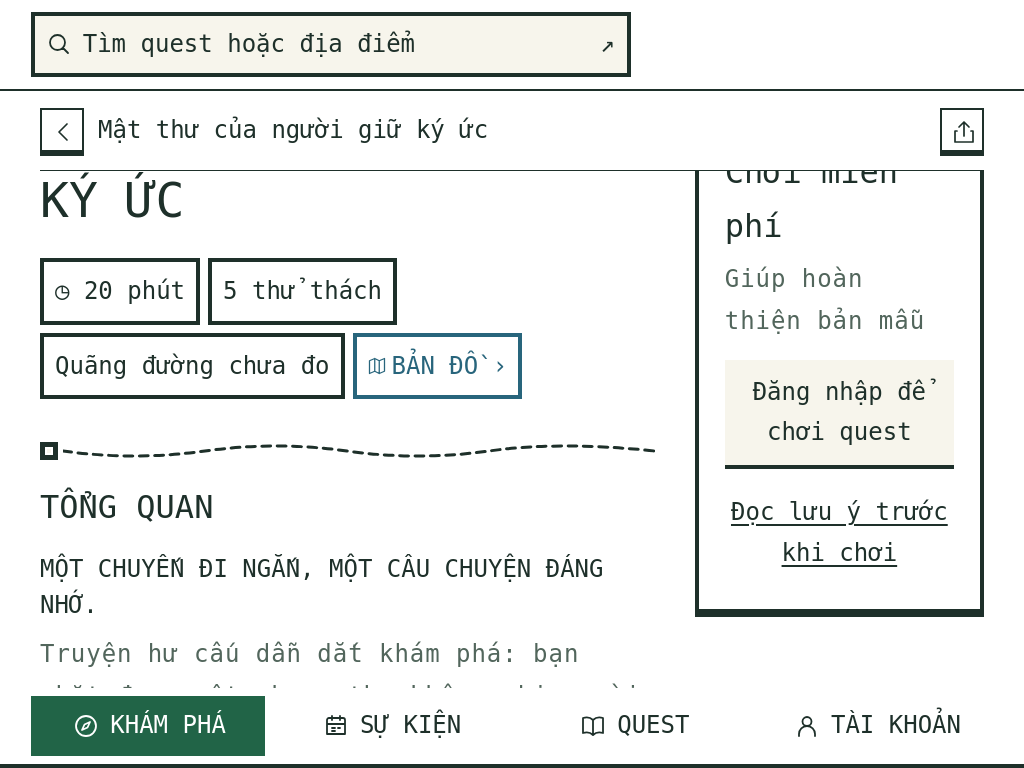
Test: keeps quest detail behind the login prompt when choosing to play
The image size is (1024, 768).
(page scrolled)
Step 1. Click the link "Đăng nhập để chơi quest" → [839, 412], box [725,360,954,465]
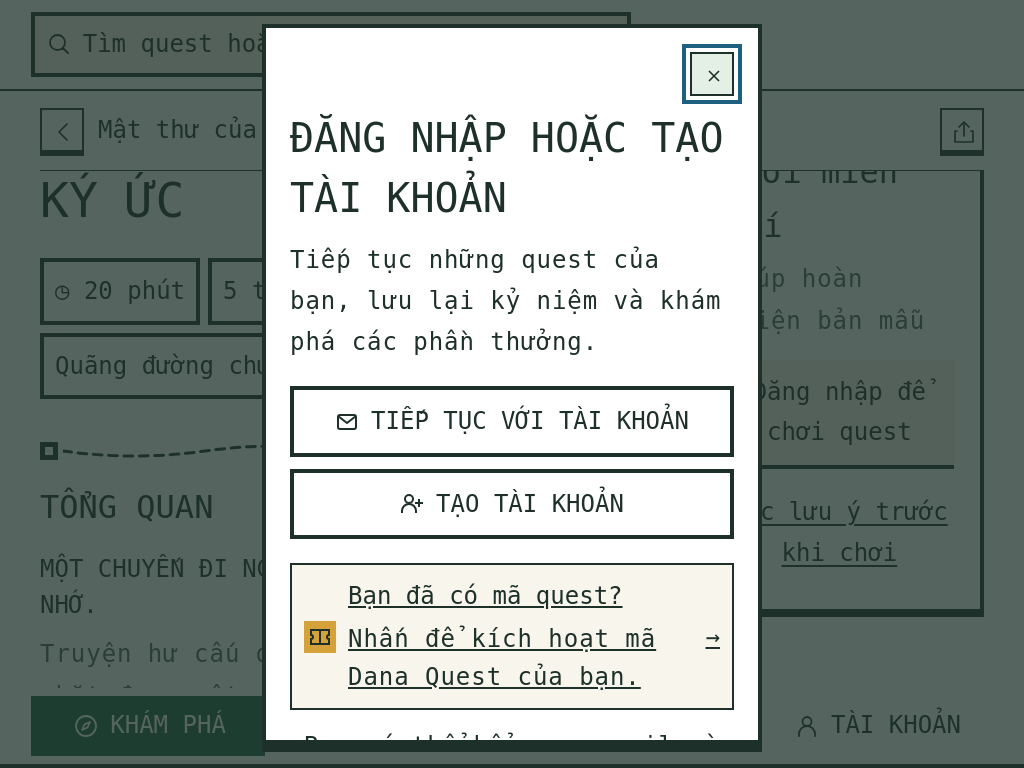
Expected: the dialog is shown, [262,24,762,744]
